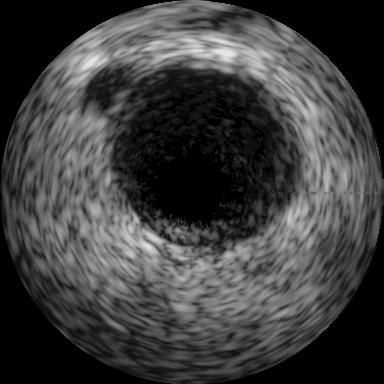Lumen: (152, 153, 227, 229)
